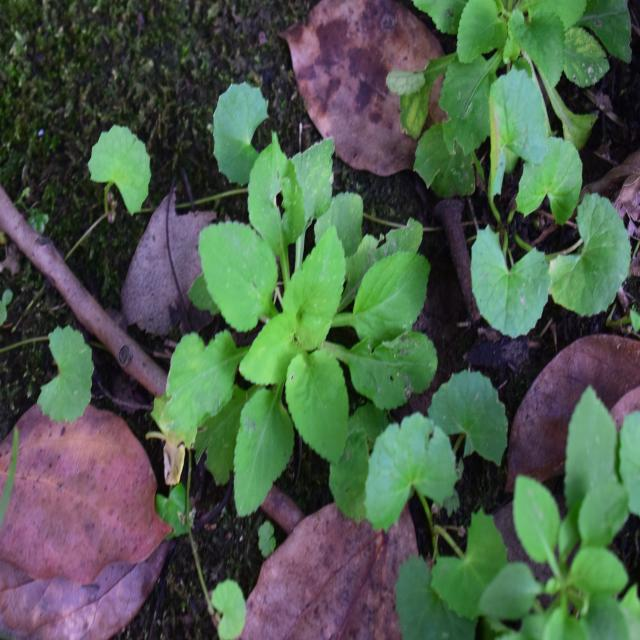Viola: (185, 128, 432, 482)
